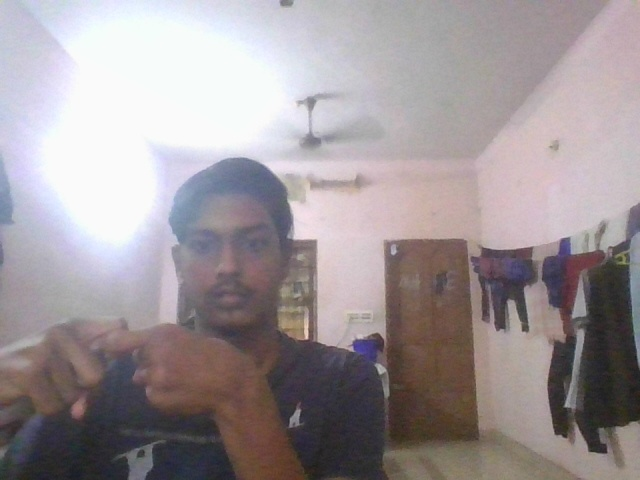friend: (1, 314, 250, 423)
